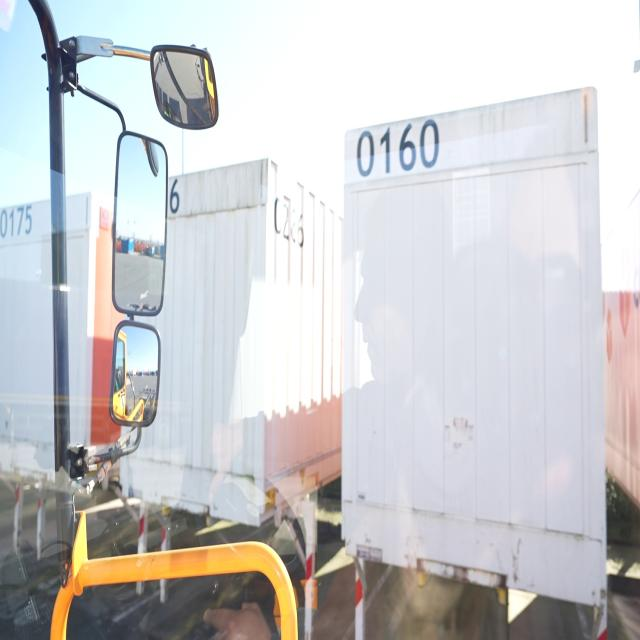Code: (352, 114, 443, 184), (0, 203, 39, 246)
